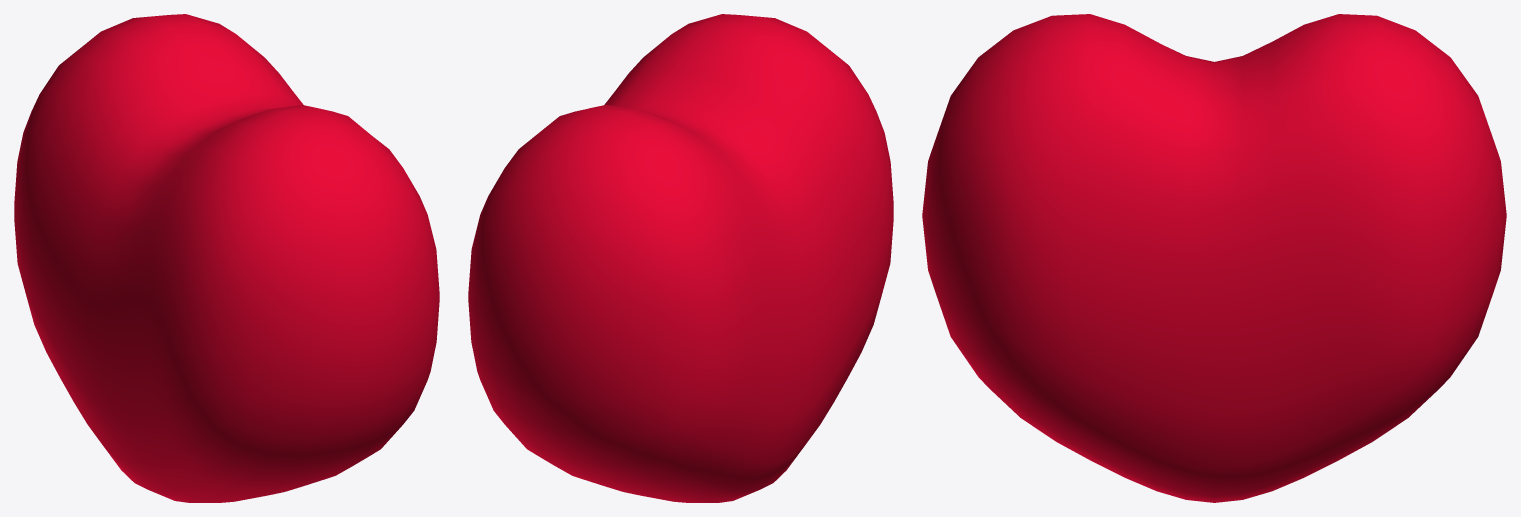
The model's file is Corazon.fbx.
The picture shows the model from 3 angles, left to right: view 1: azimuth 30°, elevation 25°; view 2: azimuth 150°, elevation 25°; view 3: azimuth 270°, elevation 25°; orthographic projection. The views are drawn at different scales.
Parts seen in each view (by area): view 1: Corazon; view 2: Corazon; view 3: Corazon.
Boxes of the visible parts, bbox=[...] form: Corazon: bbox=[14, 14, 439, 502]; Corazon: bbox=[468, 14, 893, 502]; Corazon: bbox=[922, 14, 1506, 502].
Size of the model in its own units: 145 by 221 by 259.
